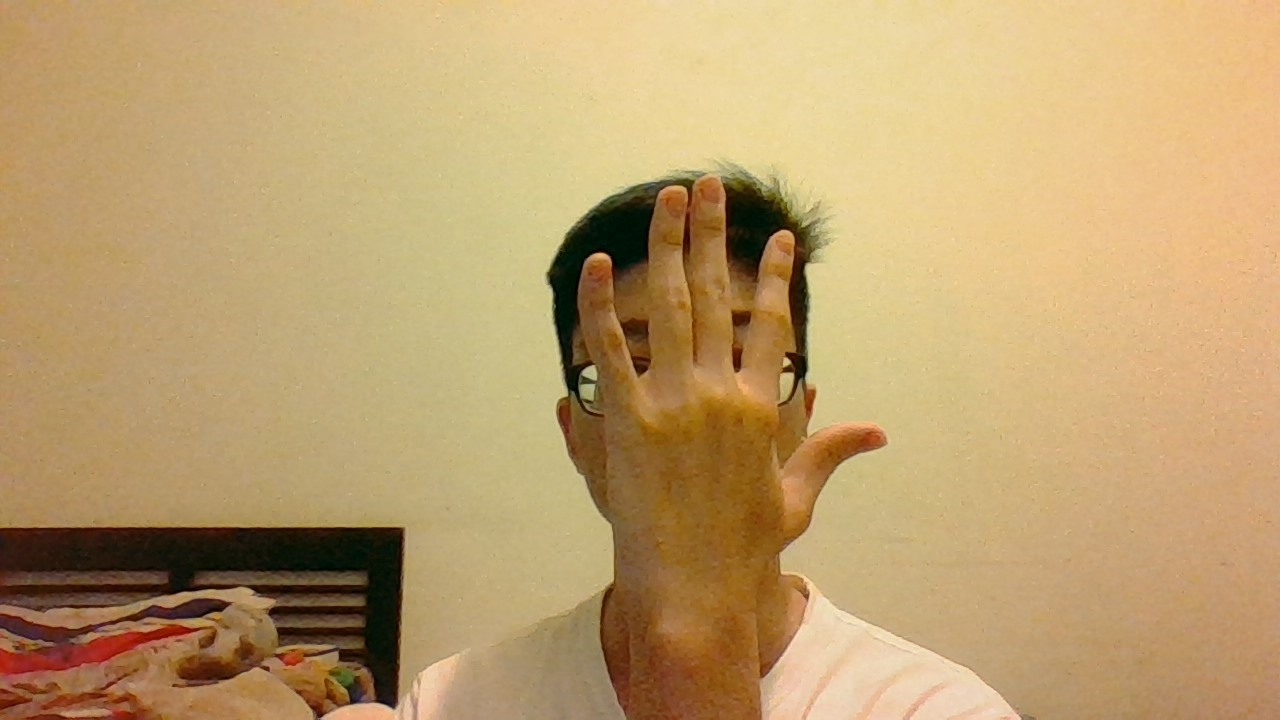Hello: (577, 170, 896, 628)
